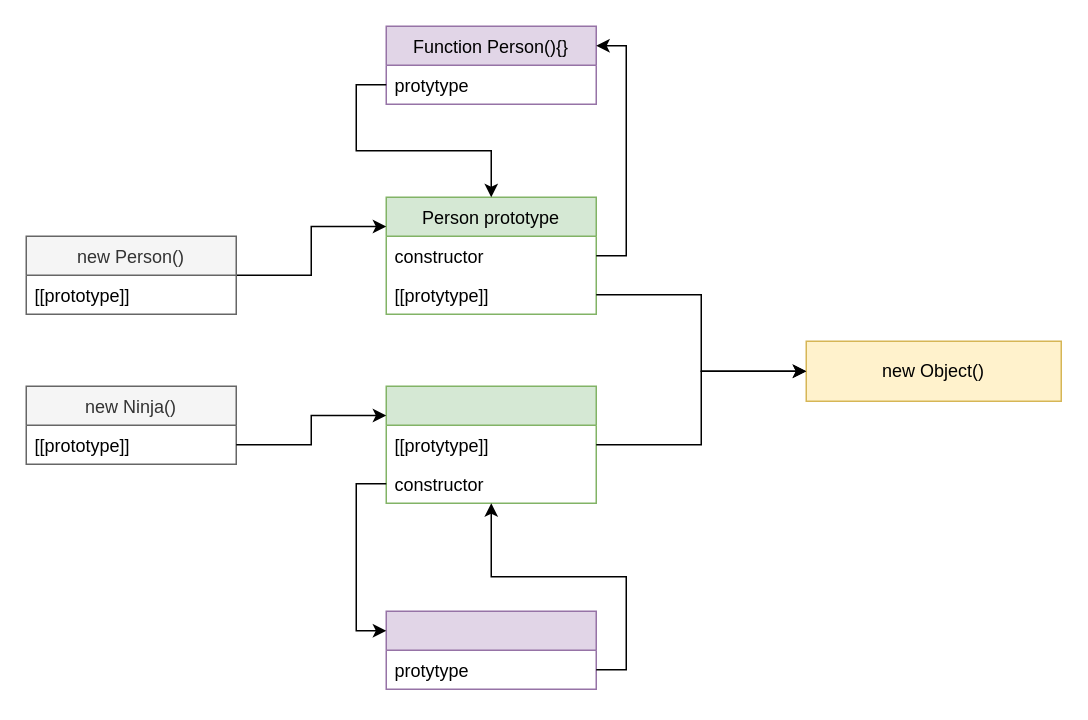
This 1088x720 diagram has some shape labels left out. Here are the shapes that lost their labels. From the top down, the box of each, then its label:
(385, 385, 596, 503): Ninja prototype
(385, 610, 596, 689): Function Ninja()
